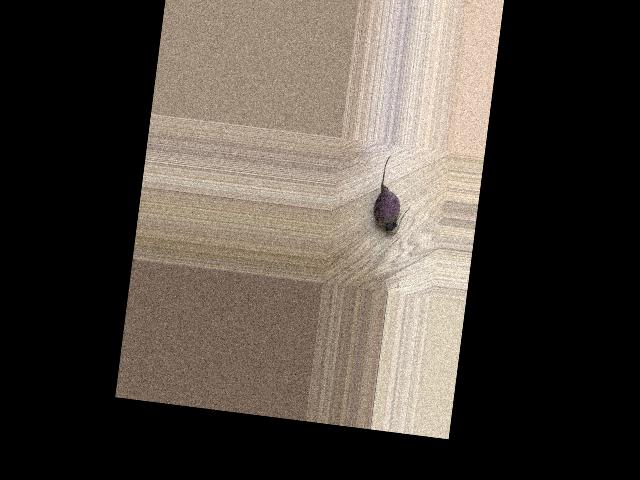beet: (370, 153, 415, 236)
